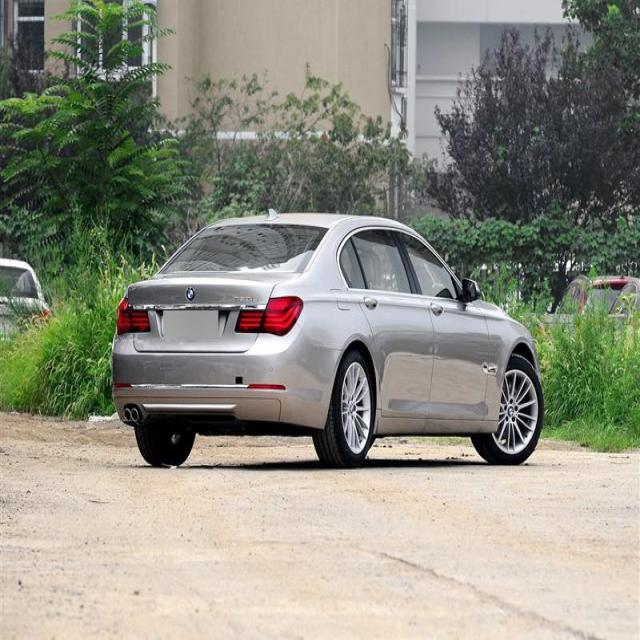back_glass: (156, 222, 330, 276)
back_left_side_light: (115, 296, 151, 338)
back_right_side_light: (233, 294, 304, 336)
door: (340, 228, 437, 426)
front_right_side_door: (392, 224, 492, 426)
front_right_side_mirror: (456, 275, 482, 305)
rear_bumper: (111, 325, 343, 430)
wheel: (471, 353, 544, 463), (311, 350, 372, 465), (132, 419, 198, 467)
